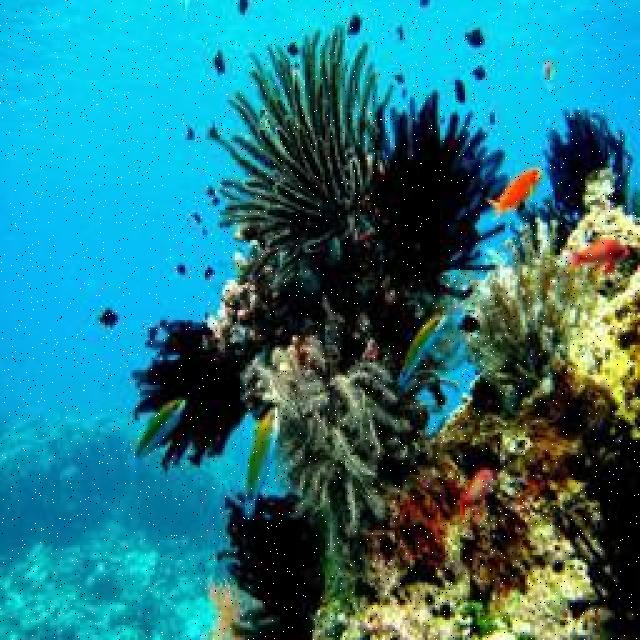fish: (400, 314, 449, 382), (135, 401, 188, 461), (248, 412, 276, 501), (491, 171, 542, 213), (570, 238, 630, 272), (458, 470, 494, 519), (452, 76, 468, 111), (461, 316, 482, 334), (464, 30, 482, 48), (346, 13, 361, 34), (103, 308, 119, 325), (216, 50, 225, 75), (473, 63, 486, 79), (544, 63, 554, 80)
reefs: (204, 21, 510, 299), (245, 347, 411, 532), (467, 217, 582, 411), (129, 316, 249, 471), (219, 497, 327, 638), (549, 108, 630, 211)
